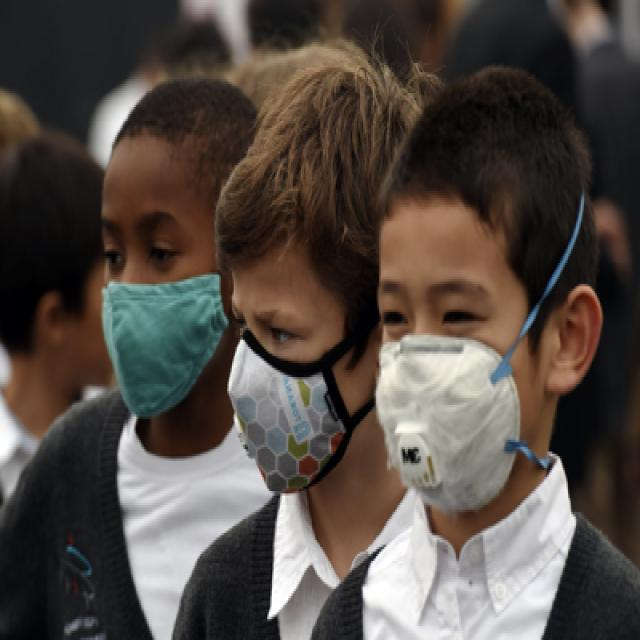with_mask: (374, 270, 544, 514), (228, 294, 362, 496), (101, 207, 229, 417)
